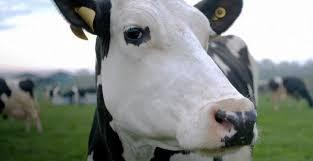cow: (52, 0, 258, 161), (0, 78, 44, 134), (270, 76, 313, 109)
